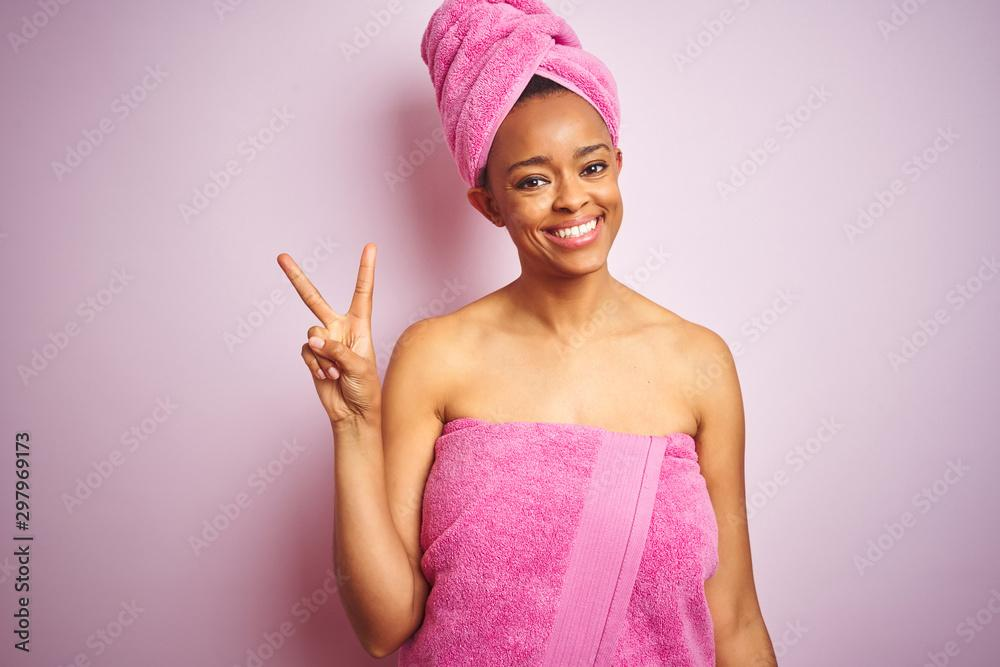peace_sign: (265, 240, 388, 423)
